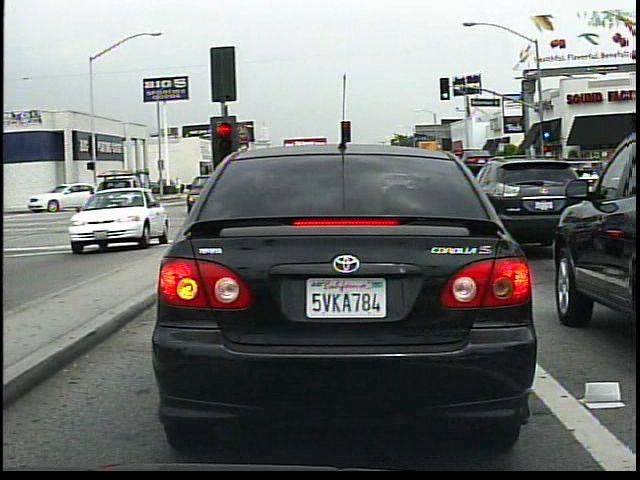person: (175, 176, 184, 195)
